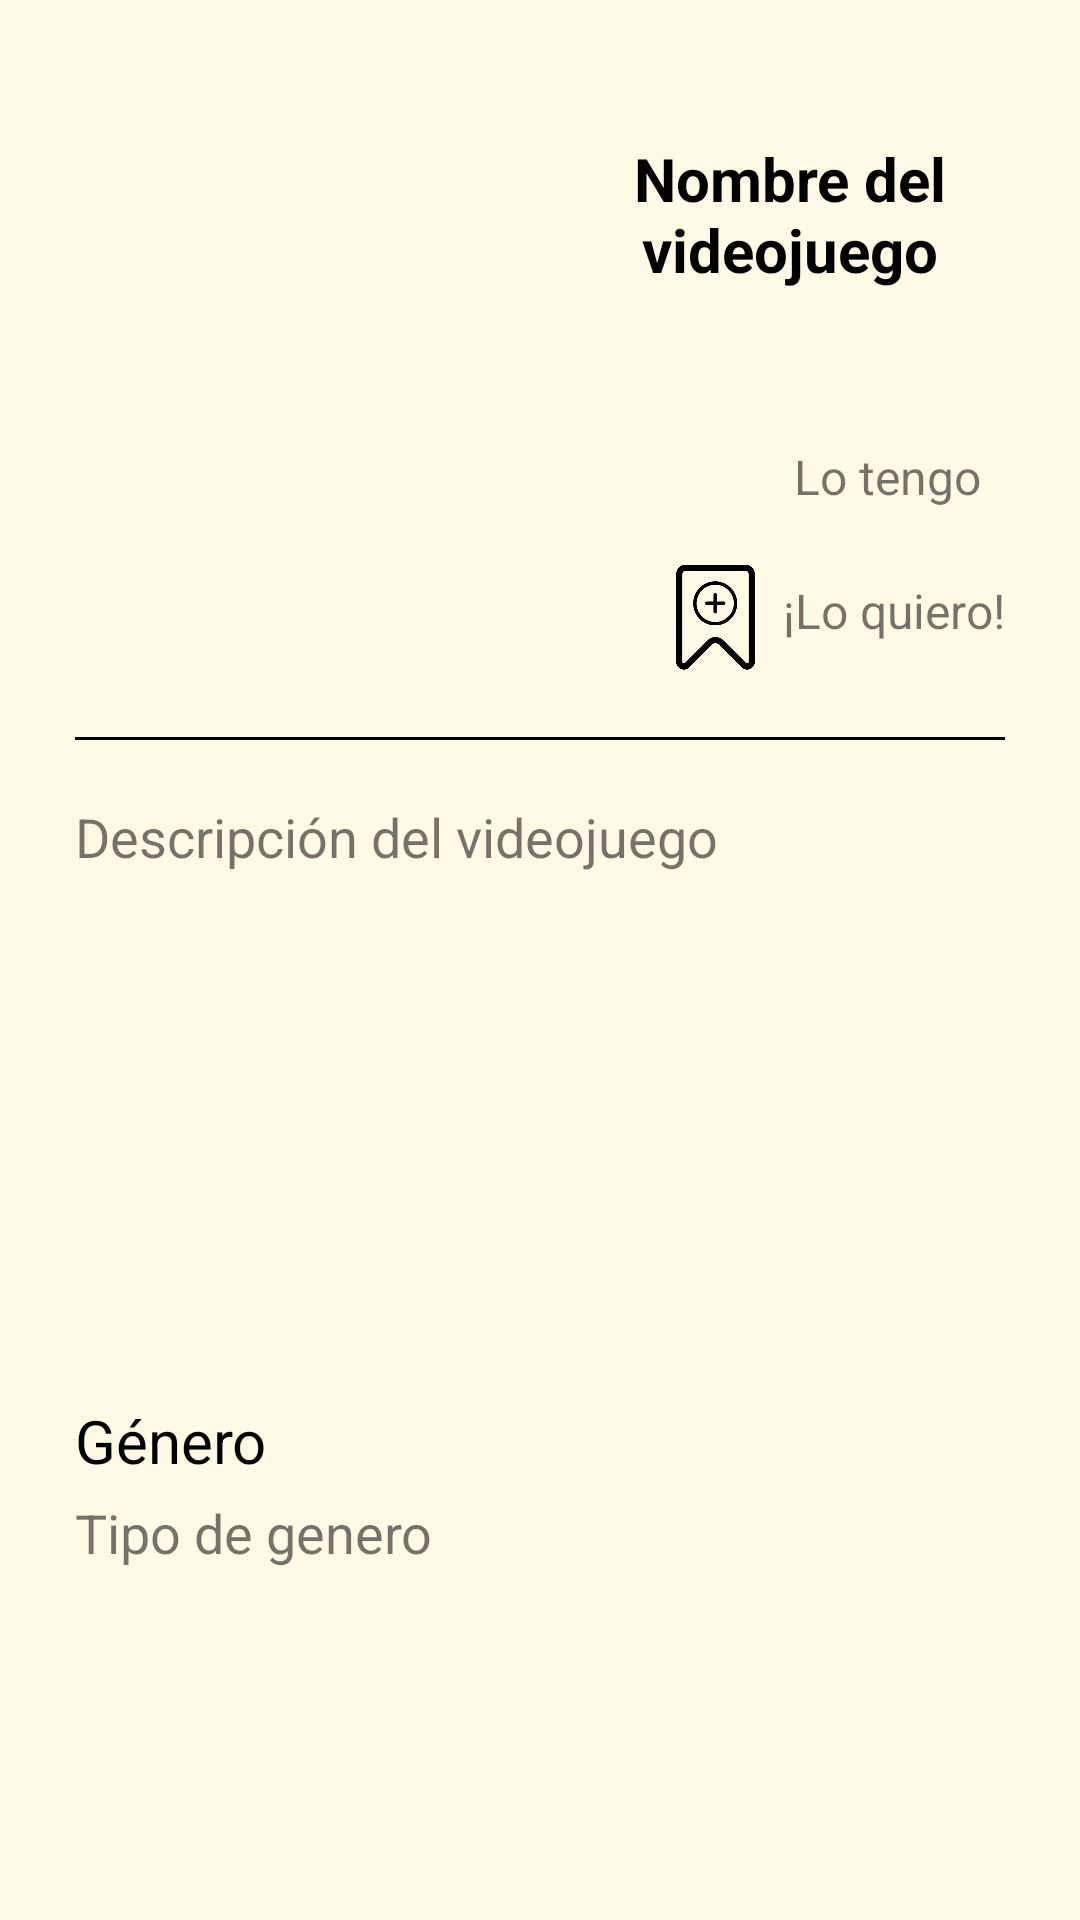

Icon bounding boxes for this 1080x1920 phone screenshot, format (x1,y1,x2,y2):
icono de marcador añadir: (676,565,755,670)
